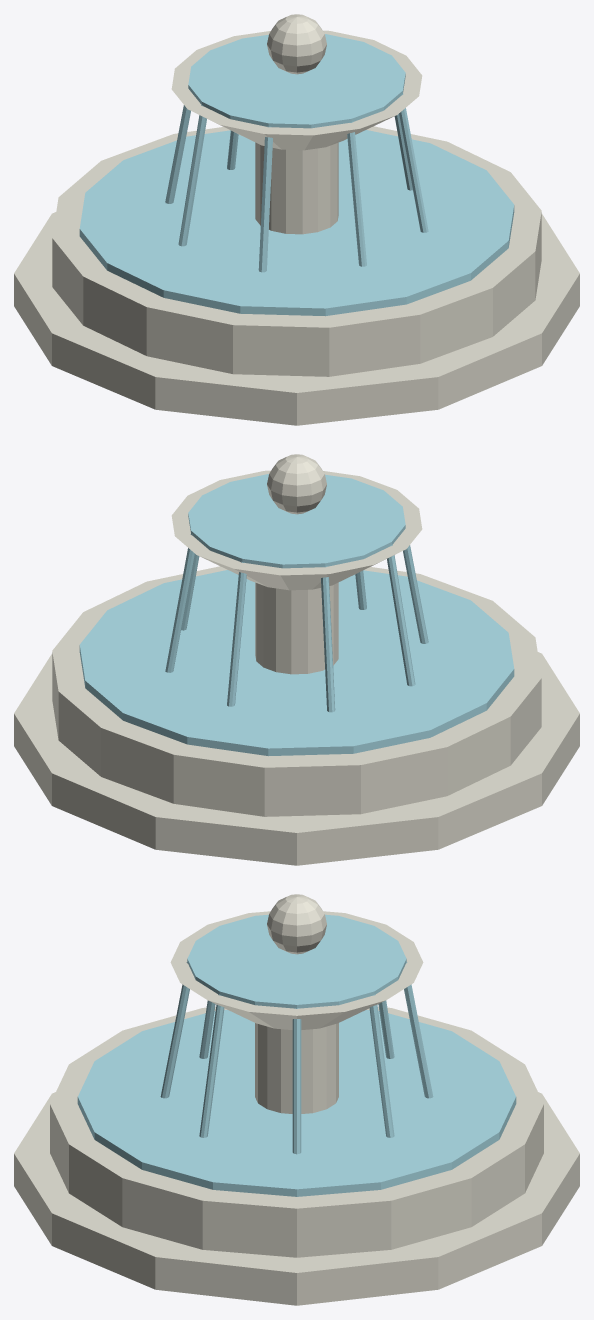
File: remaster_decor_fountain.glb
3 views of the same model, one above another, from view 1: azimuth 30°, elevation 25°; view 2: azimuth 150°, elevation 25°; view 3: azimuth 270°, elevation 25° (orthographic).
Parts seen in each view (by area): view 1: Basin water.001, Basin.001, Octagonal plinth.001, Upper water.001, Central pedestal.001, Upper bowl.001, Finial.001, Falling water.013, Falling water.012, Falling water.014, Falling water.015, Falling water.011; view 2: Basin water.001, Basin.001, Octagonal plinth.001, Upper water.001, Central pedestal.001, Upper bowl.001, Finial.001, Falling water.011, Falling water.010, Falling water.012, Falling water.009, Falling water.013; view 3: Basin water.001, Basin.001, Octagonal plinth.001, Upper water.001, Central pedestal.001, Upper bowl.001, Finial.001, Falling water.008, Falling water.009, Falling water.015, Falling water.010, Falling water.014.
Part boxes in pixels (bbox=[...]): Basin water.001: bbox=[79, 130, 514, 316]; Basin.001: bbox=[52, 126, 541, 376]; Octagonal plinth.001: bbox=[14, 212, 579, 425]; Upper water.001: bbox=[188, 34, 405, 128]; Central pedestal.001: bbox=[255, 142, 338, 234]; Upper bowl.001: bbox=[171, 30, 422, 150]; Finial.001: bbox=[267, 14, 326, 74]; Falling water.013: bbox=[258, 126, 272, 272]; Falling water.012: bbox=[178, 104, 206, 246]; Falling water.014: bbox=[347, 121, 366, 266]; Falling water.015: bbox=[399, 93, 428, 232]; Falling water.011: bbox=[165, 105, 190, 203]; Basin water.001: bbox=[79, 570, 514, 756]; Basin.001: bbox=[52, 566, 541, 816]; Octagonal plinth.001: bbox=[14, 652, 579, 865]; Upper water.001: bbox=[188, 474, 405, 568]; Central pedestal.001: bbox=[255, 582, 338, 674]; Upper bowl.001: bbox=[171, 470, 422, 590]; Finial.001: bbox=[267, 454, 326, 514]; Falling water.011: bbox=[321, 566, 335, 712]; Falling water.010: bbox=[227, 561, 246, 706]; Falling water.012: bbox=[387, 544, 415, 686]; Falling water.009: bbox=[165, 533, 194, 672]; Falling water.013: bbox=[403, 545, 428, 643]; Basin water.001: bbox=[77, 1010, 516, 1196]; Basin.001: bbox=[50, 1007, 543, 1257]; Octagonal plinth.001: bbox=[14, 1092, 579, 1305]; Upper water.001: bbox=[187, 914, 406, 1008]; Central pedestal.001: bbox=[255, 1023, 338, 1113]; Upper bowl.001: bbox=[170, 911, 423, 1029]; Finial.001: bbox=[267, 894, 326, 954]; Falling water.008: bbox=[292, 1008, 301, 1154]; Falling water.009: bbox=[369, 994, 394, 1137]; Falling water.015: bbox=[199, 994, 224, 1137]; Falling water.010: bbox=[404, 962, 433, 1098]; Falling water.014: bbox=[160, 962, 189, 1098].
Size of the model in its own units: 4.7 by 2.65 by 4.7.
